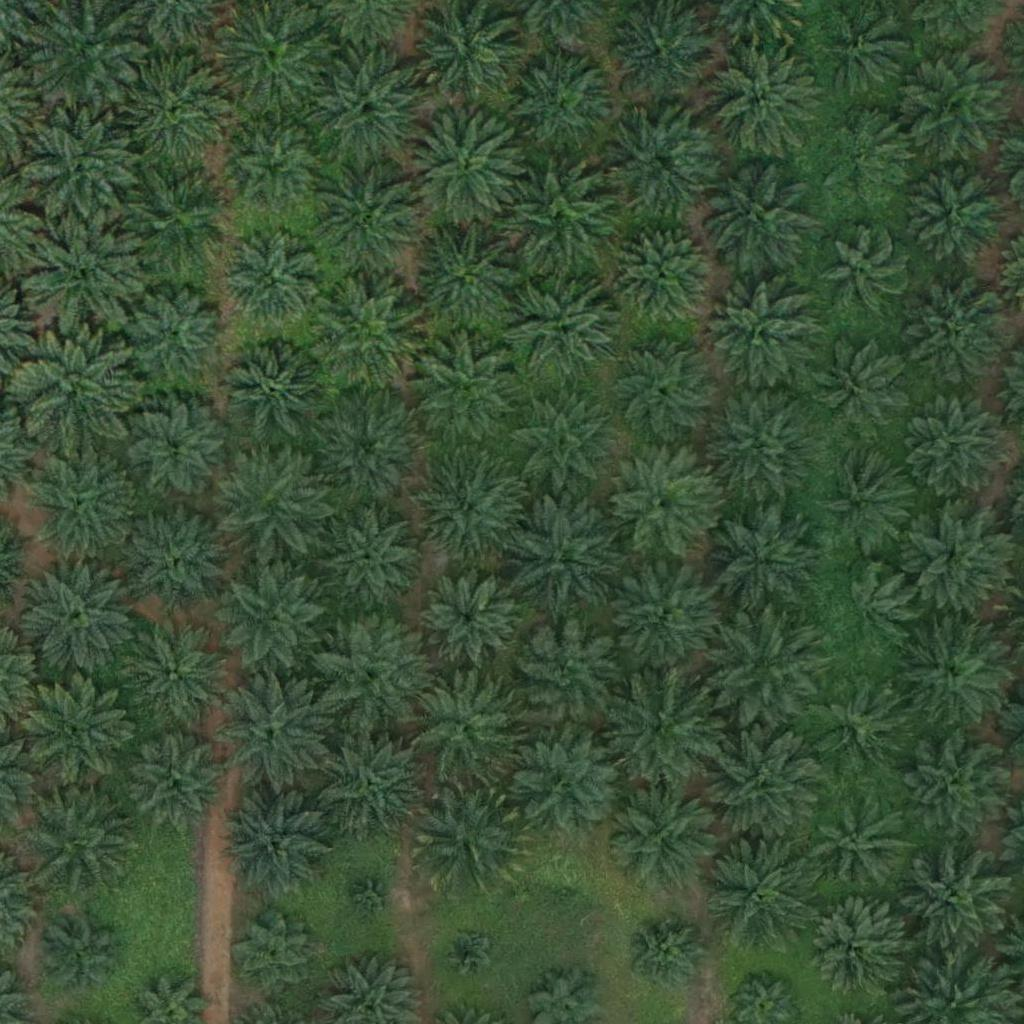Kelapa_Sawit: (313, 158, 426, 272), (411, 334, 524, 448), (703, 829, 816, 943), (606, 560, 719, 674), (603, 670, 716, 784), (504, 389, 617, 503), (506, 499, 619, 613), (414, 454, 527, 568), (23, 112, 136, 225), (25, 218, 138, 331), (19, 333, 132, 446), (314, 51, 427, 164), (408, 112, 521, 225), (410, 221, 523, 334), (704, 42, 817, 155), (699, 159, 812, 272), (703, 281, 816, 394), (901, 389, 1014, 502), (903, 503, 1016, 616), (894, 616, 1007, 729), (900, 733, 1013, 846), (608, 780, 721, 893), (510, 620, 623, 733), (218, 564, 331, 677), (218, 677, 331, 790), (221, 792, 334, 905), (116, 613, 229, 726), (124, 51, 236, 165), (314, 283, 426, 397), (900, 844, 1012, 958), (707, 610, 819, 724), (709, 727, 821, 841), (412, 781, 524, 894), (121, 166, 233, 279), (310, 392, 422, 505), (501, 45, 613, 158), (500, 161, 612, 274), (508, 275, 620, 388), (603, 108, 715, 221), (607, 332, 719, 445), (706, 389, 818, 502), (904, 52, 1016, 165), (902, 160, 1014, 273), (705, 504, 817, 617), (605, 447, 717, 560), (515, 727, 627, 840), (410, 671, 522, 784), (310, 617, 422, 730), (314, 724, 426, 837), (213, 446, 325, 559), (25, 450, 137, 563), (22, 561, 134, 674), (27, 673, 139, 786), (26, 780, 138, 893), (125, 283, 225, 384), (127, 402, 227, 503), (227, 344, 327, 445), (612, 223, 712, 324), (910, 284, 1010, 385), (815, 450, 915, 551), (419, 568, 519, 669), (321, 509, 421, 610), (127, 506, 227, 607), (128, 733, 228, 834), (803, 901, 903, 1002), (222, 231, 322, 331), (807, 677, 907, 777), (811, 796, 911, 896), (228, 128, 316, 216), (819, 9, 907, 97), (824, 567, 912, 655), (823, 113, 910, 201), (818, 227, 905, 315), (819, 343, 906, 431), (233, 913, 320, 1001), (623, 913, 710, 1001), (46, 923, 121, 999), (348, 871, 398, 922), (442, 927, 492, 978), (539, 864, 589, 914)
